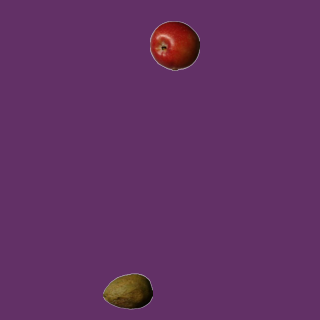Apple Braeburn: (149, 20, 199, 70)
Papaya: (102, 266, 152, 316)
